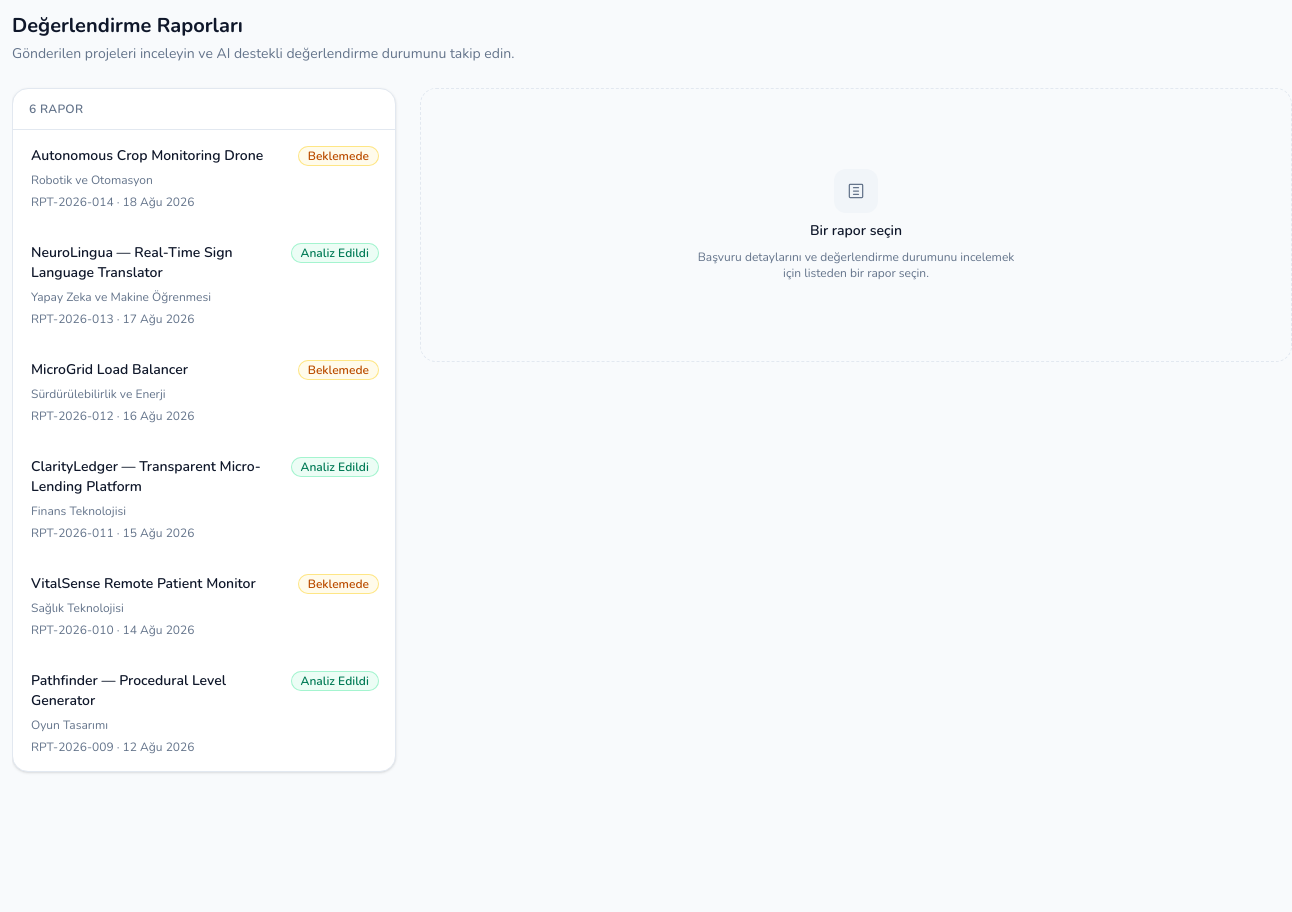
RefereeDashboard › updates the detail view to show the selected report when a row is clicked
Click the option that starts with "MicroGrid Load Balancer" at (109, 370), box [13,344,395,441]
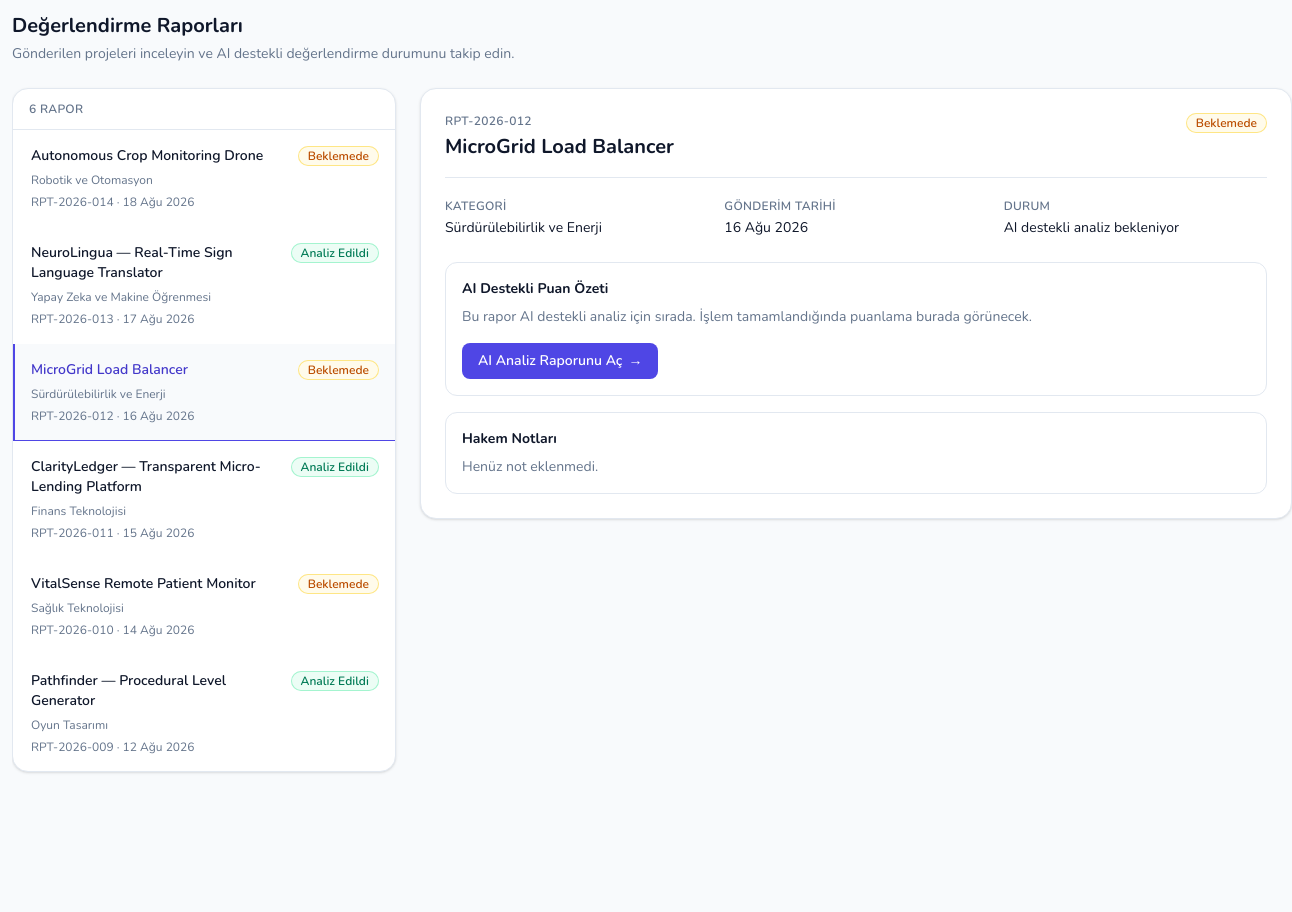
Check: the element with test id "report-detail" shows "MicroGrid Load Balancer", box [445,133,674,160]
Check: the element with test id "report-detail" shows "RPT-2026-012", box [445,113,532,129]
Check: the element with test id "report-detail" shows "Sürdürülebilirlik ve Enerji", box [445,218,602,237]
